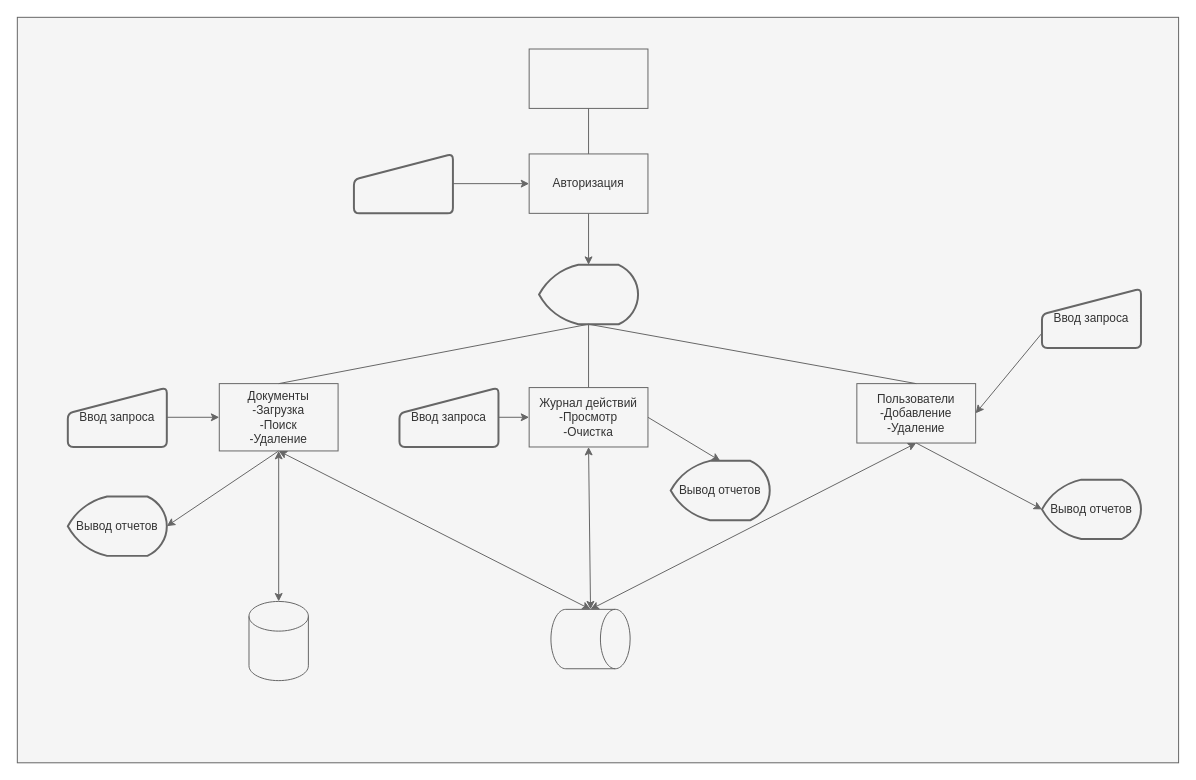
Image size: 1196x780. Some labels were removed from this diagram. The shapes that lost their labels are listed below. From the top down, each one's box as (x1, y1, x2, y2) in pixels, then its label:
(528, 48, 648, 108): Программная система автоматизации документооборота
(352, 152, 453, 214): Ввод данных
(538, 263, 639, 325): Вывод главного меню
(248, 600, 308, 681): Файловая система
(550, 608, 630, 669): База данных
